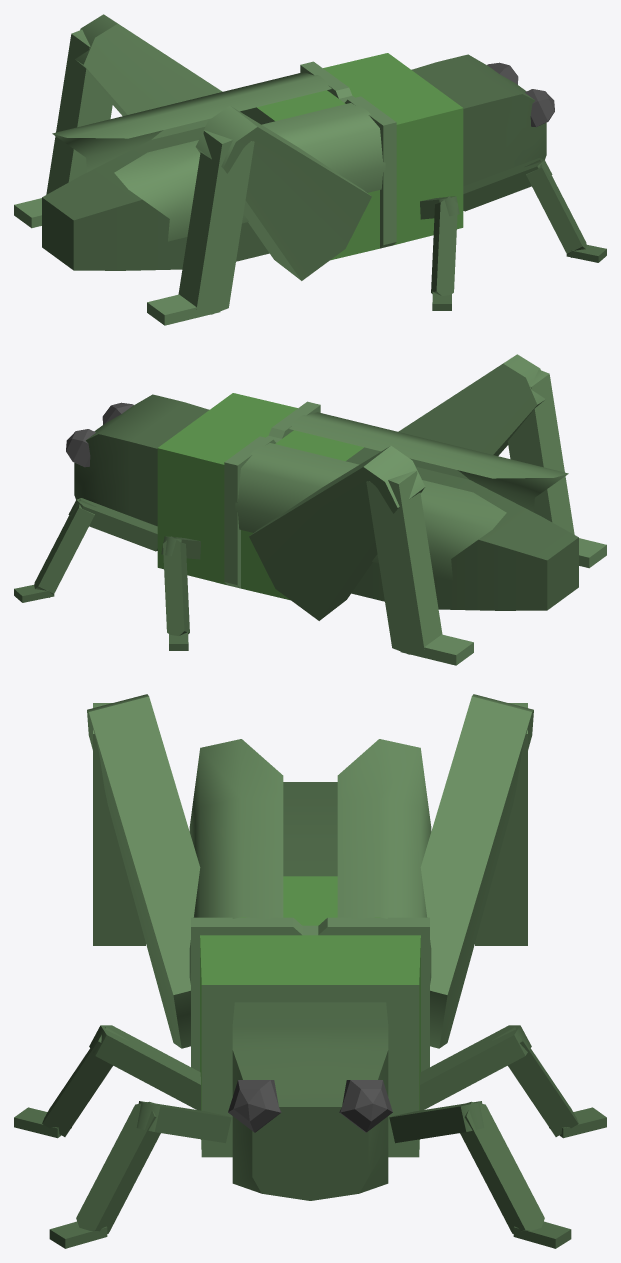
The model's file is Grasshopper.fbx.
The picture shows the model from 3 angles, top to bottom: view 1: azimuth 30°, elevation 25°; view 2: azimuth 150°, elevation 25°; view 3: azimuth 270°, elevation 25°; orthographic projection. The views are drawn at different scales.
Visible parts, largest first — view 1: pPlane2; view 2: pPlane2; view 3: pPlane2.
Boxes of the visible parts, left/top/right/bottom form: pPlane2: left=14, top=14, right=606, bottom=325; pPlane2: left=14, top=354, right=606, bottom=665; pPlane2: left=14, top=694, right=606, bottom=1248.
Size of the model in its own units: 2.75 by 1.2 by 2.06.
